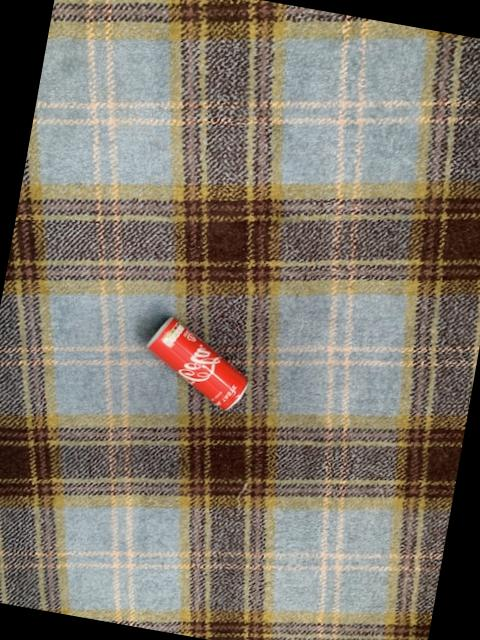metal: (147, 316, 247, 407)
